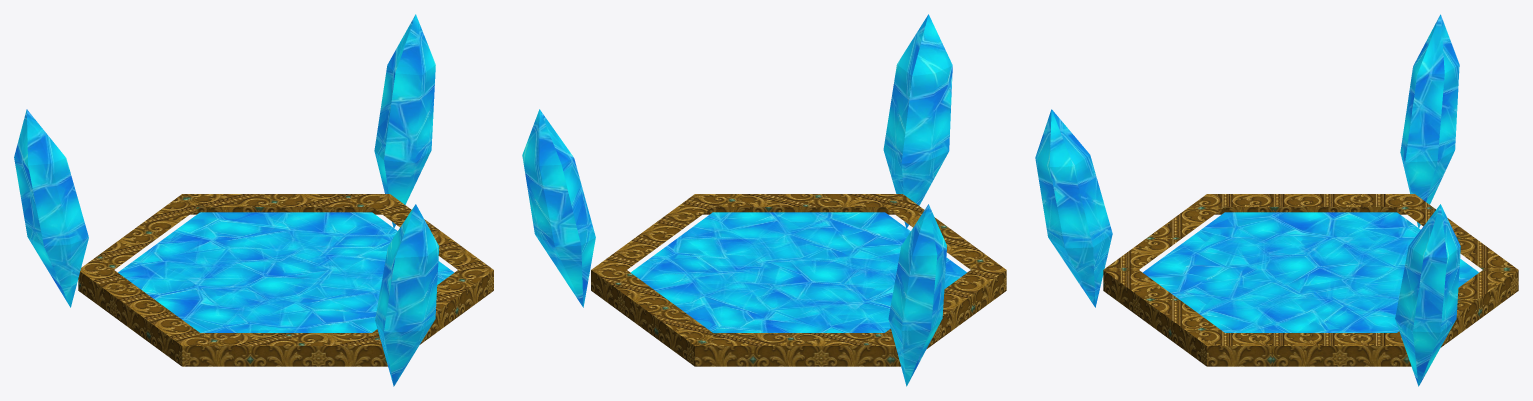
The model's file is crystal_pad.glb.
3 views of the same model, side by side, from view 1: azimuth 30°, elevation 25°; view 2: azimuth 150°, elevation 25°; view 3: azimuth 270°, elevation 25° (orthographic).
Parts seen in each view (by area): view 1: CC_crystal_pad; view 2: CC_crystal_pad; view 3: CC_crystal_pad.
Part boxes in pixels (x1,y1,x2,y2): CC_crystal_pad: (14,14,493,386); CC_crystal_pad: (522,14,1006,386); CC_crystal_pad: (1035,14,1518,386).
Bounding box in the file's own units: 3.33 × 1.53 × 3.37.
Materials: 2 (2 with a texture image).
